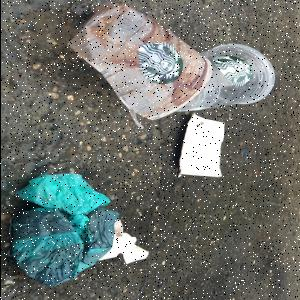Cup: (68, 5, 214, 129), (178, 45, 277, 113)
Trash: (6, 172, 120, 290), (173, 115, 232, 185), (99, 221, 151, 273)
